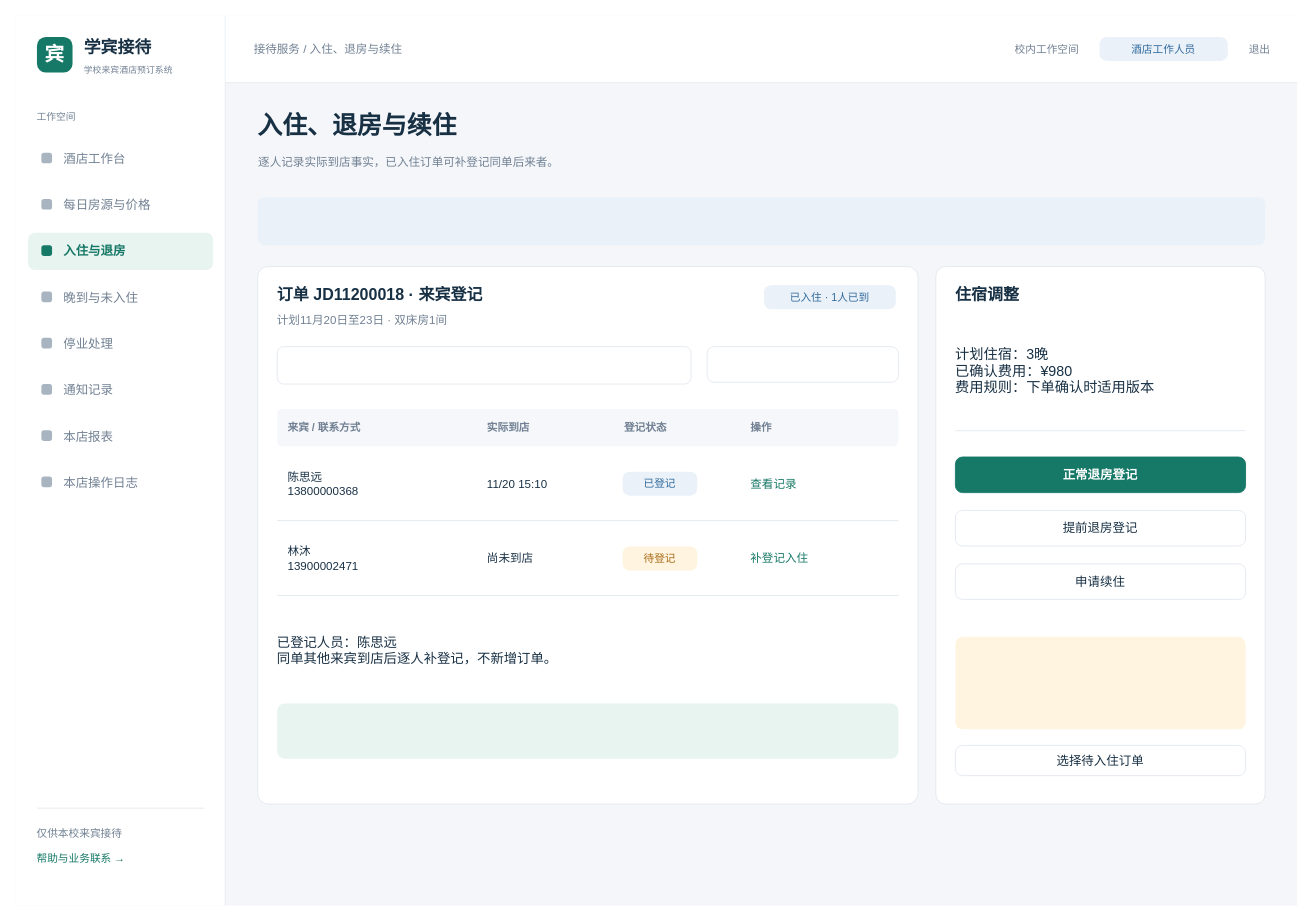
The diagram is 1312 pixels wide and 920 high, and some of its shapes have lost their labels. The shapes that lost their labels are listed below. From the top down, each one's centre as x and y in pixels, then its label:
At point 761,221: "当前酒店：学府宾馆。首次入住转“已入住”；同单后来者可补登记，状态保持不变。".
At point 483,365: "订单号 / 来宾姓名".
At point 802,364: "查询本酒店订单".
At point 1100,682: "提前退房仅计实际已住晚， 之后未住日期名额释放。 额外费用另列并交接待人员核对。".
At point 587,730: "实际间夜按房间和日期统计；同房两位来宾不会使间夜翻倍。".
